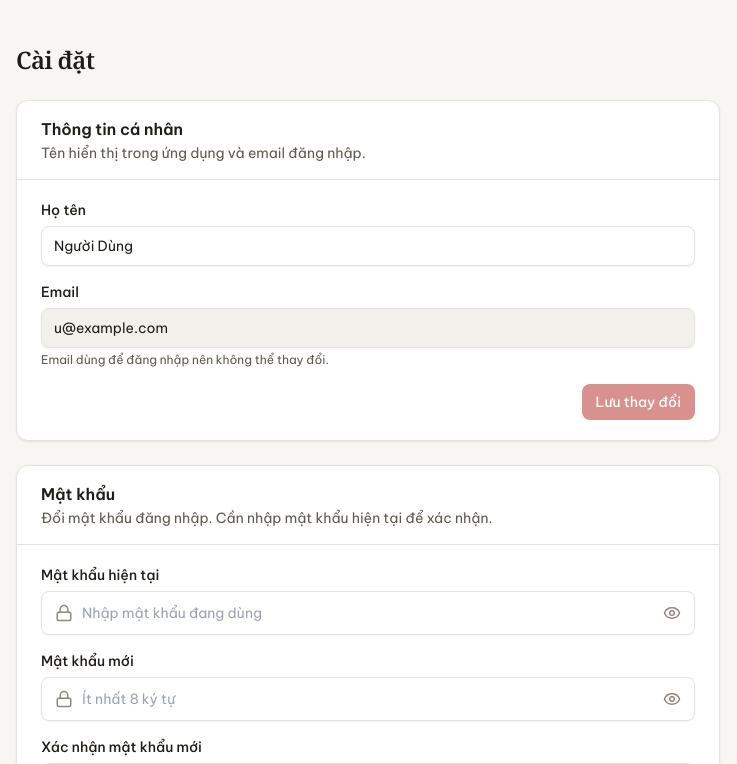
SettingsPage — mật khẩu › đổi thành công -> xoá trắng các ô
Type "cu123456" into the password field labelled "Mật khẩu hiện tại" at (368, 613), box [41,591,695,635]
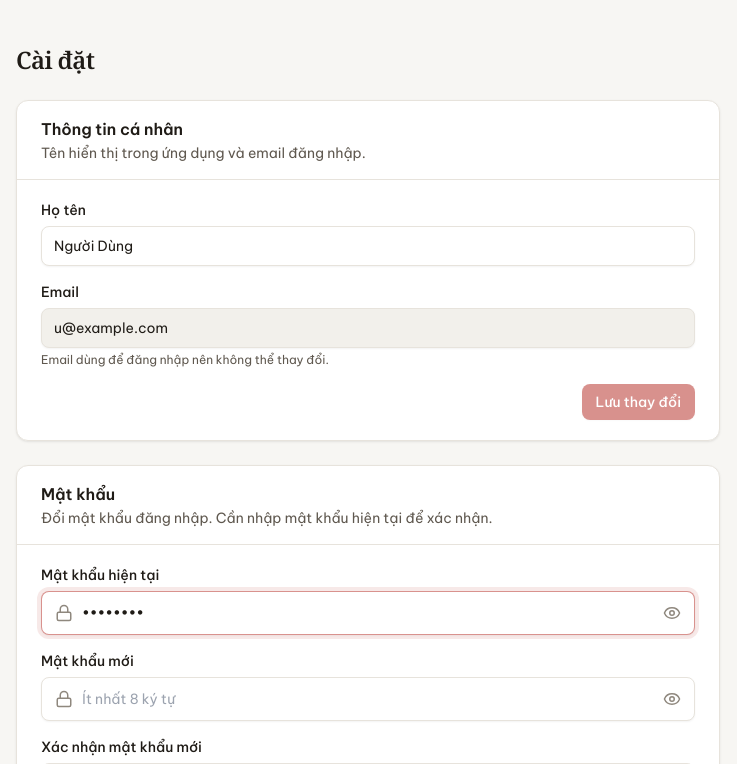
Type "moi123456" into the password field labelled "Mật khẩu mới" at (368, 699), box [41,677,695,721]
(page scrolled)
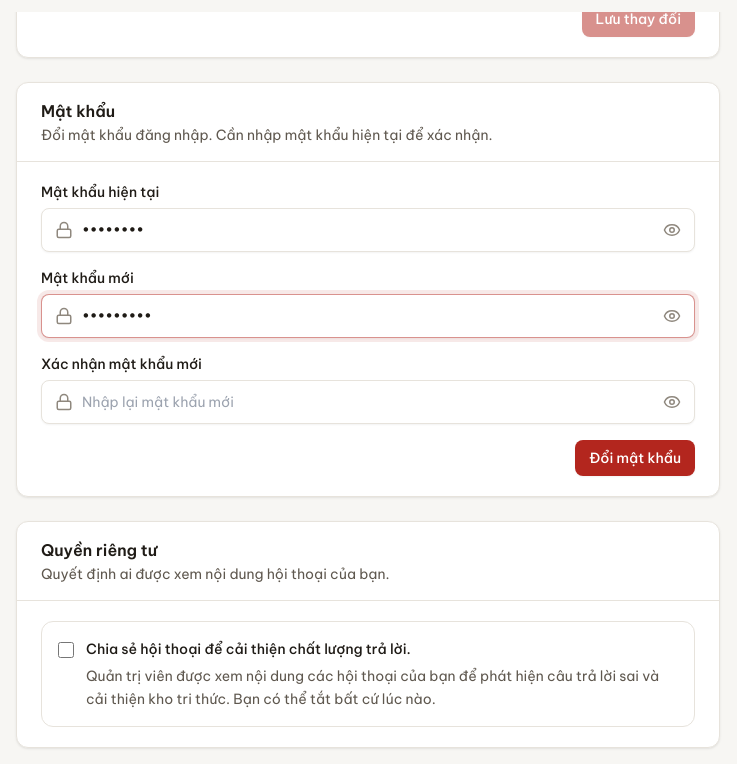
Type "moi123456" into the password field labelled "Xác nhận mật khẩu mới" at (368, 402), box [41,380,695,424]
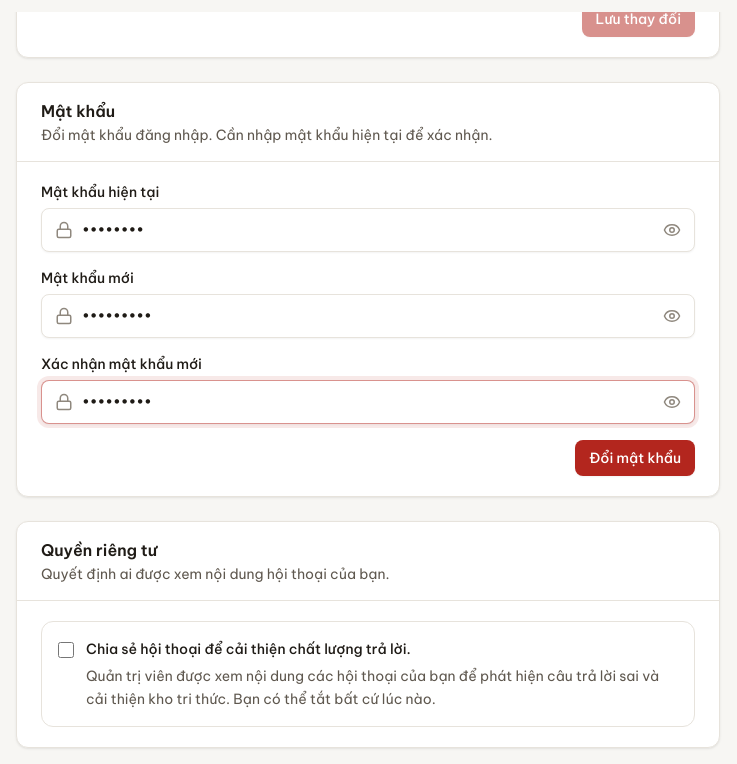
Click the button "Đổi mật khẩu" at (635, 458), box [575,440,695,476]
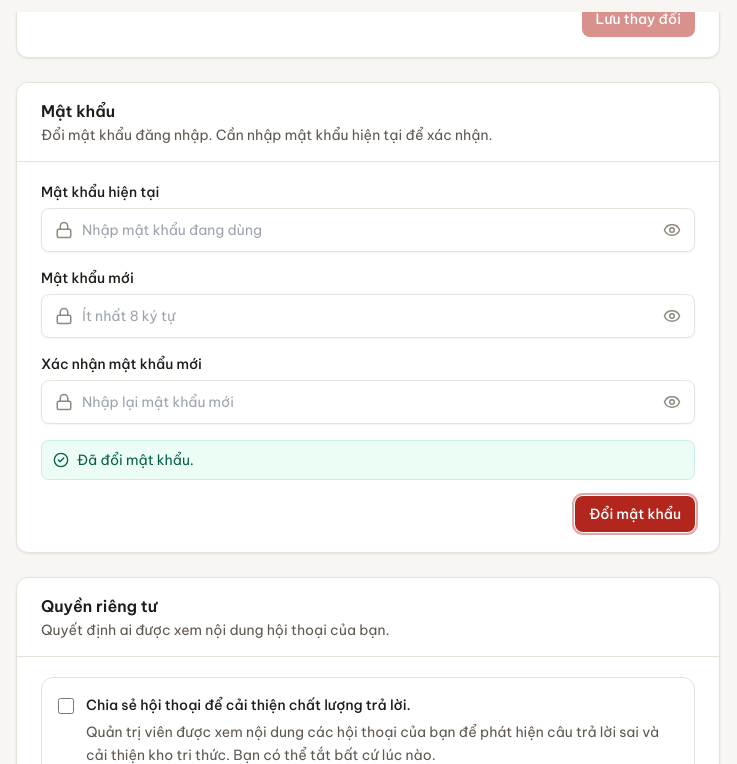
Check: the text "Đã đổi mật khẩu." is shown, box [77,450,194,470]
Check: the password field labelled "Mật khẩu hiện tại" is empty, box [41,208,695,252]
